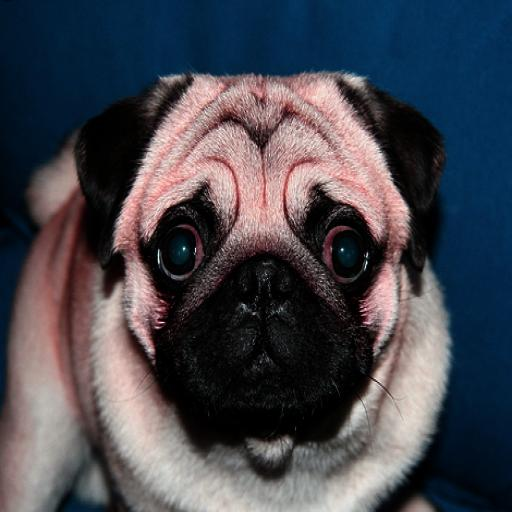dog_face: (78, 64, 444, 427)
